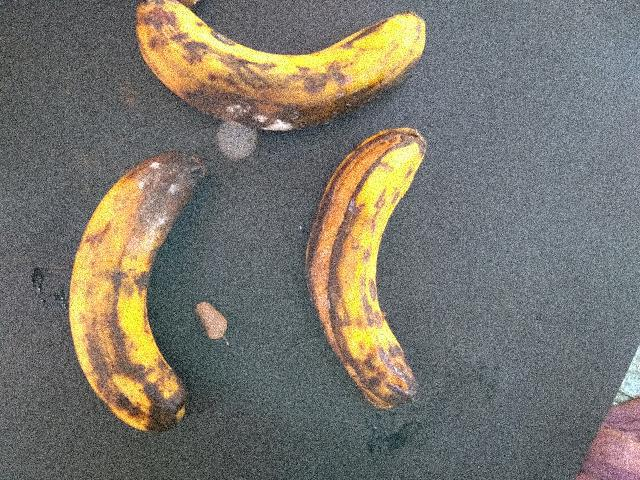rotten: (60, 146, 241, 436), (308, 102, 438, 436), (138, 0, 436, 130)
